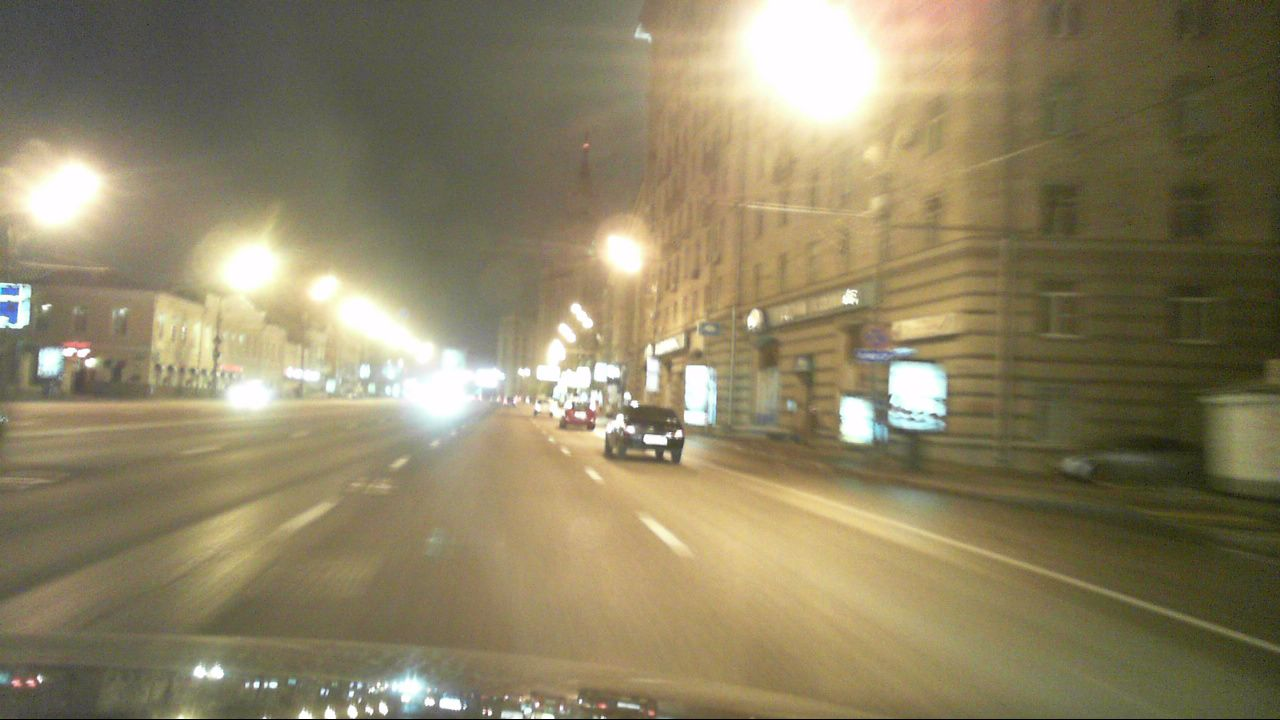No Parking: (860, 322, 888, 349)
